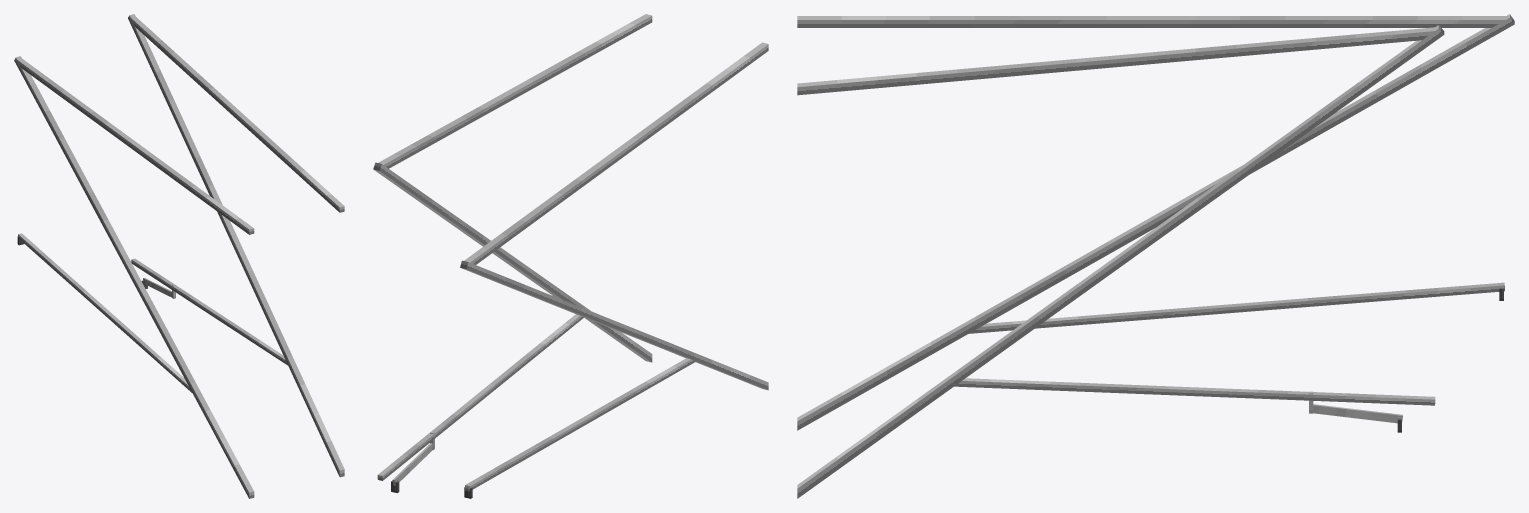
Rendered from cantilever_inner_16px.obj.
3 views of the same model, side by side, from view 1: azimuth 30°, elevation 25°; view 2: azimuth 150°, elevation 25°; view 3: azimuth 270°, elevation 25° (orthographic). The views are drawn at different scales.
Parts seen in each view (by area): view 1: c5d6a71a-9b04-4c2e-a0f4-2edc38e2fbf8, dd744a71-2037-4fb4-a2af-362cb3816a3b, bb26a843-144a-4295-8b40-266174d58c0c, f1f77f29-4a61-4032-ab4e-5abe222ecad4, a9fedd30-1be2-4718-a2f2-a7793cf04fb7, 01f5eeaf-3091-4ace-9284-92331d915eda; view 2: bb26a843-144a-4295-8b40-266174d58c0c, f1f77f29-4a61-4032-ab4e-5abe222ecad4, c5d6a71a-9b04-4c2e-a0f4-2edc38e2fbf8, dd744a71-2037-4fb4-a2af-362cb3816a3b, a9fedd30-1be2-4718-a2f2-a7793cf04fb7, 01f5eeaf-3091-4ace-9284-92331d915eda; view 3: dd744a71-2037-4fb4-a2af-362cb3816a3b, c5d6a71a-9b04-4c2e-a0f4-2edc38e2fbf8, bb26a843-144a-4295-8b40-266174d58c0c, f1f77f29-4a61-4032-ab4e-5abe222ecad4, a9fedd30-1be2-4718-a2f2-a7793cf04fb7, 01f5eeaf-3091-4ace-9284-92331d915eda, a82dc5b3-eb62-42aa-b02c-12c82fca393f.
Boxes of the visible parts, left/top/right/bottom form: c5d6a71a-9b04-4c2e-a0f4-2edc38e2fbf8: left=14, top=56, right=254, bottom=498; dd744a71-2037-4fb4-a2af-362cb3816a3b: left=128, top=14, right=344, bottom=477; bb26a843-144a-4295-8b40-266174d58c0c: left=17, top=58, right=254, bottom=234; f1f77f29-4a61-4032-ab4e-5abe222ecad4: left=131, top=16, right=344, bottom=212; a9fedd30-1be2-4718-a2f2-a7793cf04fb7: left=18, top=233, right=191, bottom=392; 01f5eeaf-3091-4ace-9284-92331d915eda: left=131, top=258, right=287, bottom=365; bb26a843-144a-4295-8b40-266174d58c0c: left=464, top=42, right=768, bottom=264; f1f77f29-4a61-4032-ab4e-5abe222ecad4: left=378, top=14, right=652, bottom=168; c5d6a71a-9b04-4c2e-a0f4-2edc38e2fbf8: left=460, top=260, right=768, bottom=390; dd744a71-2037-4fb4-a2af-362cb3816a3b: left=373, top=162, right=652, bottom=362; a9fedd30-1be2-4718-a2f2-a7793cf04fb7: left=464, top=358, right=695, bottom=491; 01f5eeaf-3091-4ace-9284-92331d915eda: left=377, top=314, right=583, bottom=480; dd744a71-2037-4fb4-a2af-362cb3816a3b: left=797, top=25, right=1444, bottom=498; c5d6a71a-9b04-4c2e-a0f4-2edc38e2fbf8: left=797, top=14, right=1514, bottom=430; bb26a843-144a-4295-8b40-266174d58c0c: left=797, top=16, right=1505, bottom=27; f1f77f29-4a61-4032-ab4e-5abe222ecad4: left=797, top=27, right=1435, bottom=95; a9fedd30-1be2-4718-a2f2-a7793cf04fb7: left=969, top=282, right=1504, bottom=333; 01f5eeaf-3091-4ace-9284-92331d915eda: left=954, top=378, right=1435, bottom=405; a82dc5b3-eb62-42aa-b02c-12c82fca393f: left=1313, top=404, right=1402, bottom=423.
Bounding box in the file's own units: 1.19 × 3.66 × 5.06.
